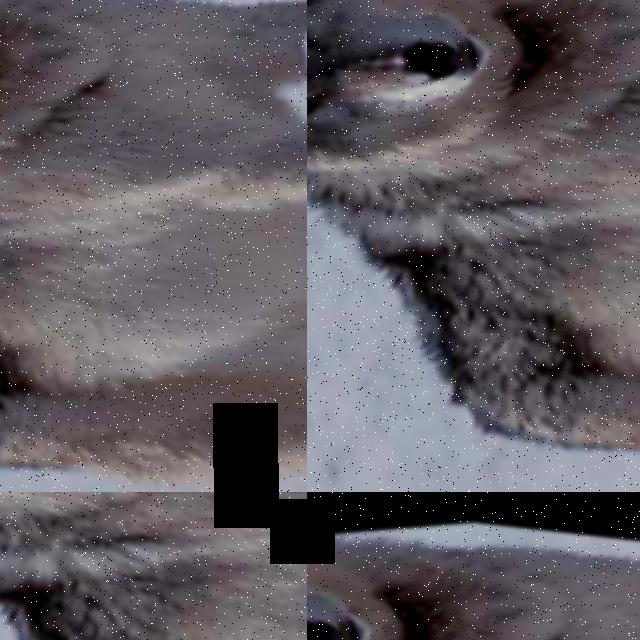dog: (307, 0, 640, 492)
wolf: (0, 0, 307, 492), (307, 492, 640, 640), (0, 492, 307, 640)
